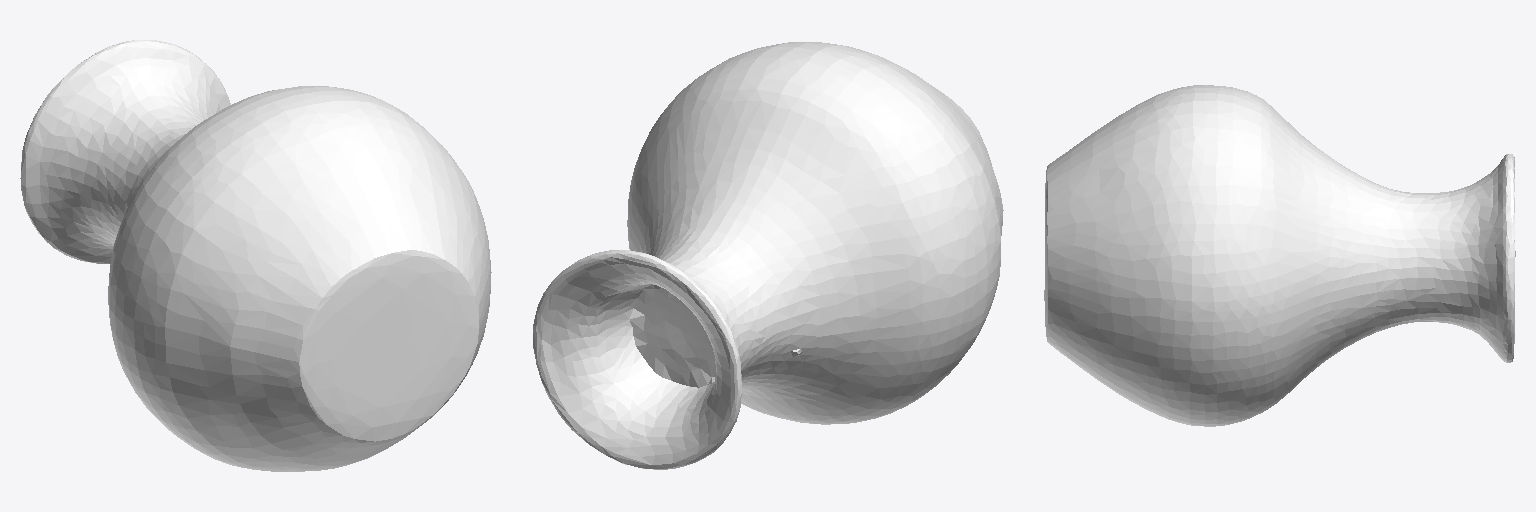
robot.urdf — vase:
<?xml version="1.0" ?>
<robot name="vase">
    <link name="baseLink">
        <contact>
        <friction_anchor/>
        <lateral_friction value="1.5"/>
        <rolling_friction value="0.1"/>
        <spinning_friction value="0.1"/>
        <contact_cfm value="1e-5"/>
        <contact_erp value="0.8"/>
        </contact>
        <visual>
            <origin rpy="0 0 0" xyz="0 0 0"/>
            <geometry>
                <mesh filename="assets/objects/vase/meshes/vase_textured.obj" scale="1 1 1"/>
            </geometry>
            <material name="white">
                <color rgba="1 1 1 1"/>
            </material>
        </visual>
        <collision>
            <origin rpy="0 0 0" xyz="0 0 0"/>
            <geometry>
                <mesh filename="assets/objects/vase/meshes/vase_textured.obj" scale="1 1 1"/>
            </geometry>
        </collision>
        <inertial>
            <origin rpy="0 0 0" xyz="0 0 0"/>
            <mass value="1.0"/>
            <inertia ixx="0.1" ixy="0" ixz="0" iyy="0.1" iyz="0" izz="0.1"/>
        </inertial>
    </link>
</robot>

--- Render facts (derived) ---
3 views of the same robot in one strip: view 1: azimuth 30°, elevation 25°; view 2: azimuth 150°, elevation 25°; view 3: azimuth 270°, elevation 25° (orthographic).
Model vase with 1 links and 0 joints (none), rooted at baseLink, posed all joints at 0.
Visible links, largest first — view 1: baseLink; view 2: baseLink; view 3: baseLink.
Boxes of the visible links, bbox=[...] form: baseLink: bbox=[20, 40, 491, 471]; baseLink: bbox=[533, 42, 1003, 469]; baseLink: bbox=[1044, 85, 1515, 426].
Bounding box of the posed robot: 0.3665 × 0.5035 × 0.367 m (x, y, z).
Meshes: 1 distinct files referenced, 1 mesh visuals loaded (1 OBJ).
